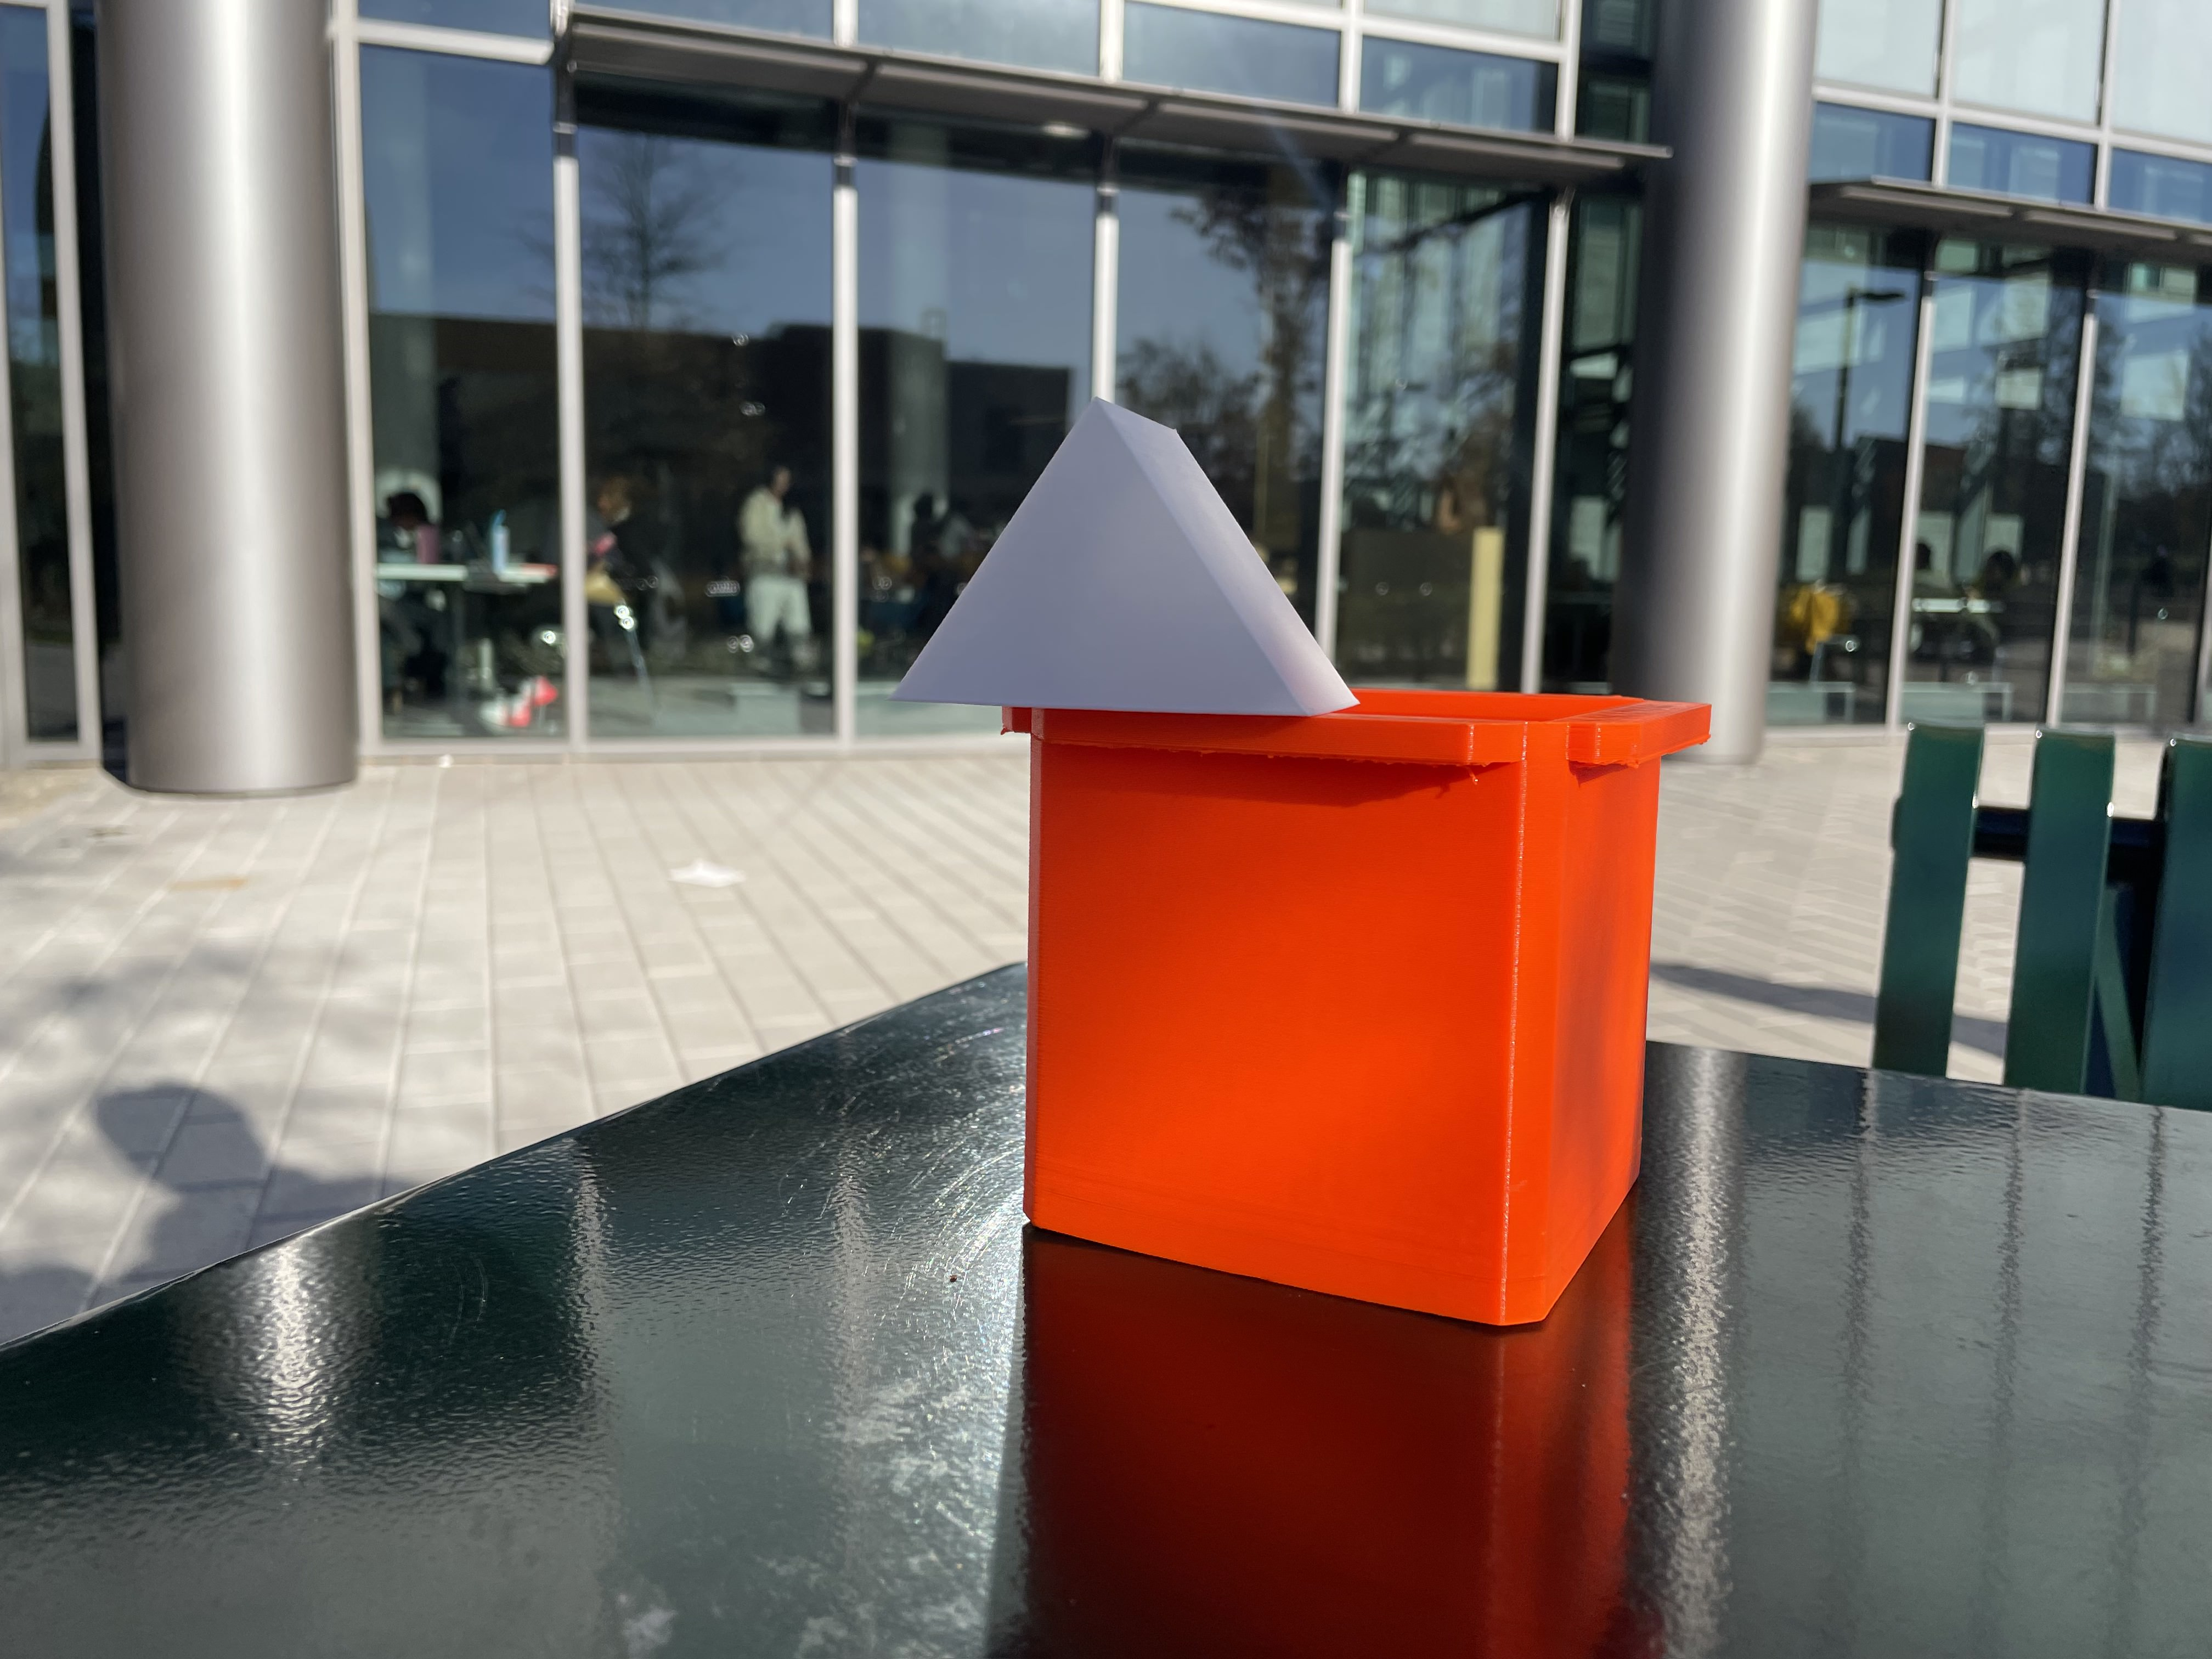payload1: (982, 667, 1733, 1358)
payload2: (883, 394, 1372, 744)
